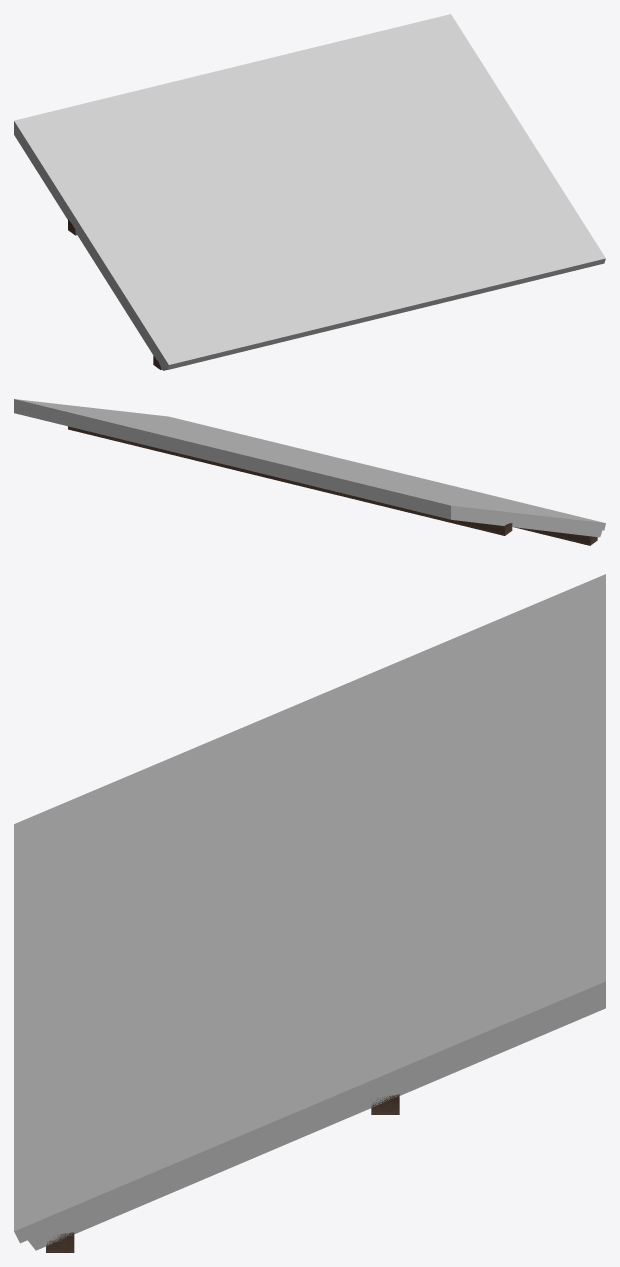
File: kawara_2x2t_a1middle.fbx
3 renders of one model, top to bottom at view 1: azimuth 30°, elevation 25°; view 2: azimuth 150°, elevation 25°; view 3: azimuth 270°, elevation 25°, orthographic. The views are drawn at different scales.
Visible parts, largest first — view 1: kawara_2x2t_a1middle; view 2: kawara_2x2t_a1middle; view 3: kawara_2x2t_a1middle.
Part boxes in pixels (x1=…): kawara_2x2t_a1middle: x1=14, y1=14, x2=605, y2=370; kawara_2x2t_a1middle: x1=14, y1=399, x2=605, y2=545; kawara_2x2t_a1middle: x1=14, y1=574, x2=605, y2=1252.
Size of the model in its own units: 440 by 137 by 270.
